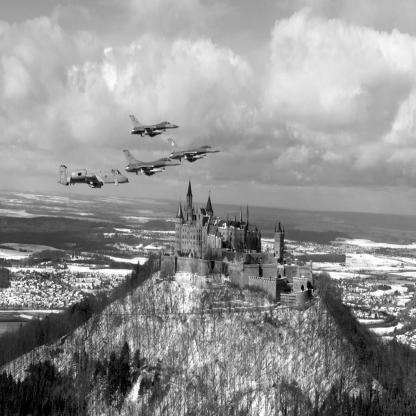A10: (58, 165, 130, 189)
F16: (124, 150, 184, 177), (168, 139, 223, 164), (130, 116, 181, 139)
